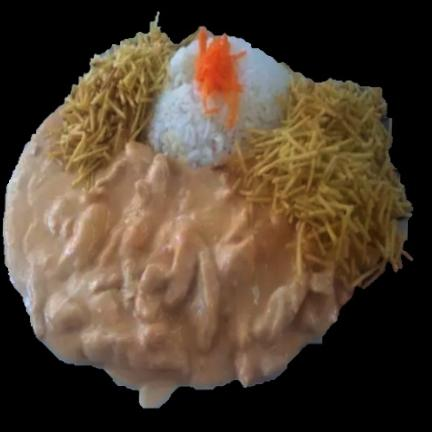carrot: (197, 38, 247, 102)
chicken: (7, 103, 354, 406)
potato: (235, 80, 409, 296), (45, 20, 174, 179)
rice: (145, 31, 296, 168)
